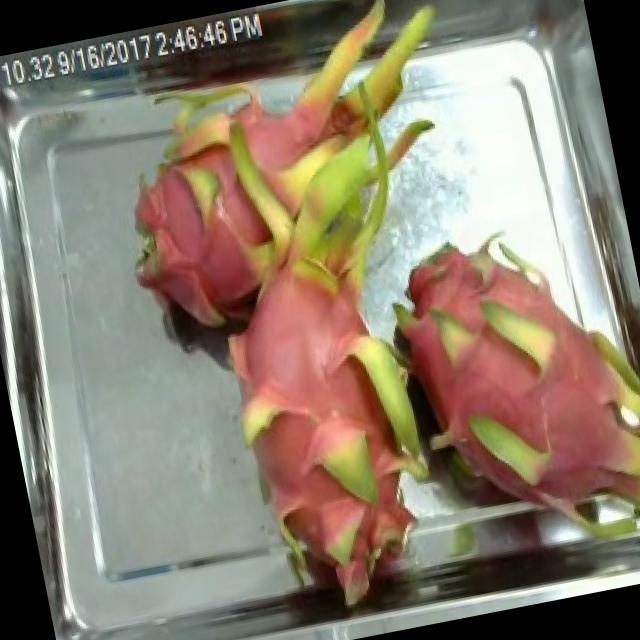Fruit: (390, 230, 521, 358)
